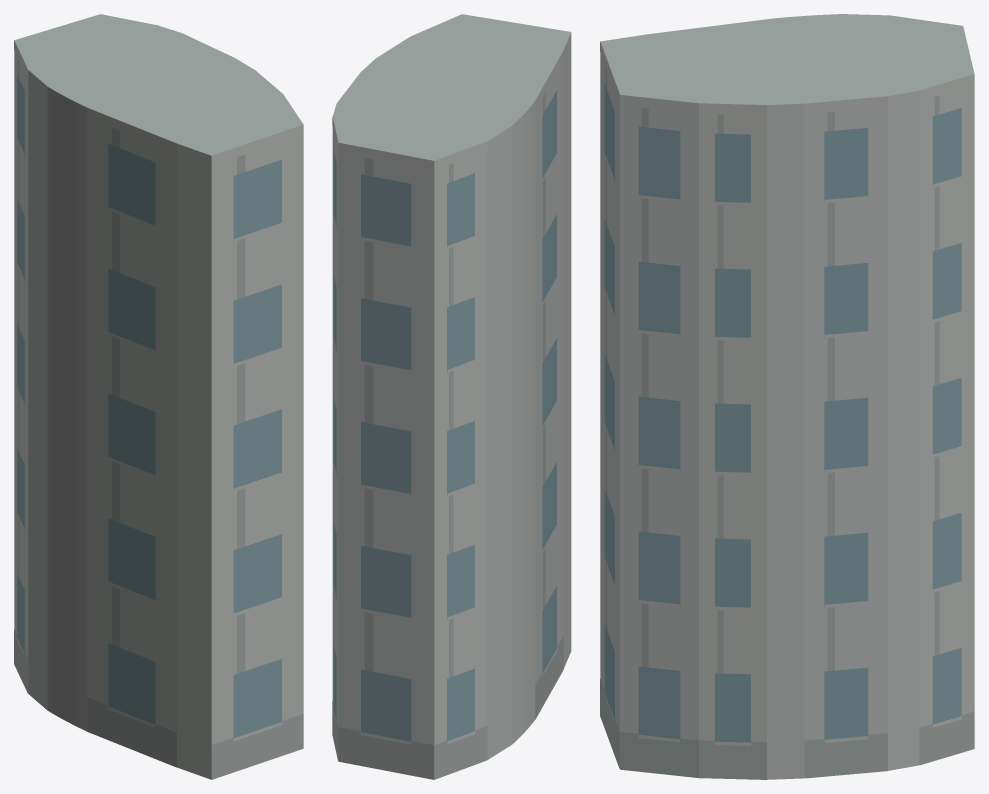
The model's file is survey-upis-32955420.glb.
The picture shows the model from 3 angles, left to right: view 1: azimuth 30°, elevation 25°; view 2: azimuth 150°, elevation 25°; view 3: azimuth 270°, elevation 25°; orthographic projection. The views are drawn at different scales.
Parts seen in each view (by area): view 1: survey-upis-32955420.tmp; view 2: survey-upis-32955420.tmp; view 3: survey-upis-32955420.tmp.
Boxes of the visible parts, x1,y1,x2,y2 form: survey-upis-32955420.tmp: (14,14,303,779); survey-upis-32955420.tmp: (332,14,571,779); survey-upis-32955420.tmp: (600,14,974,779).
Bounding box in the file's own units: 4.42 × 15.25 × 7.68.
